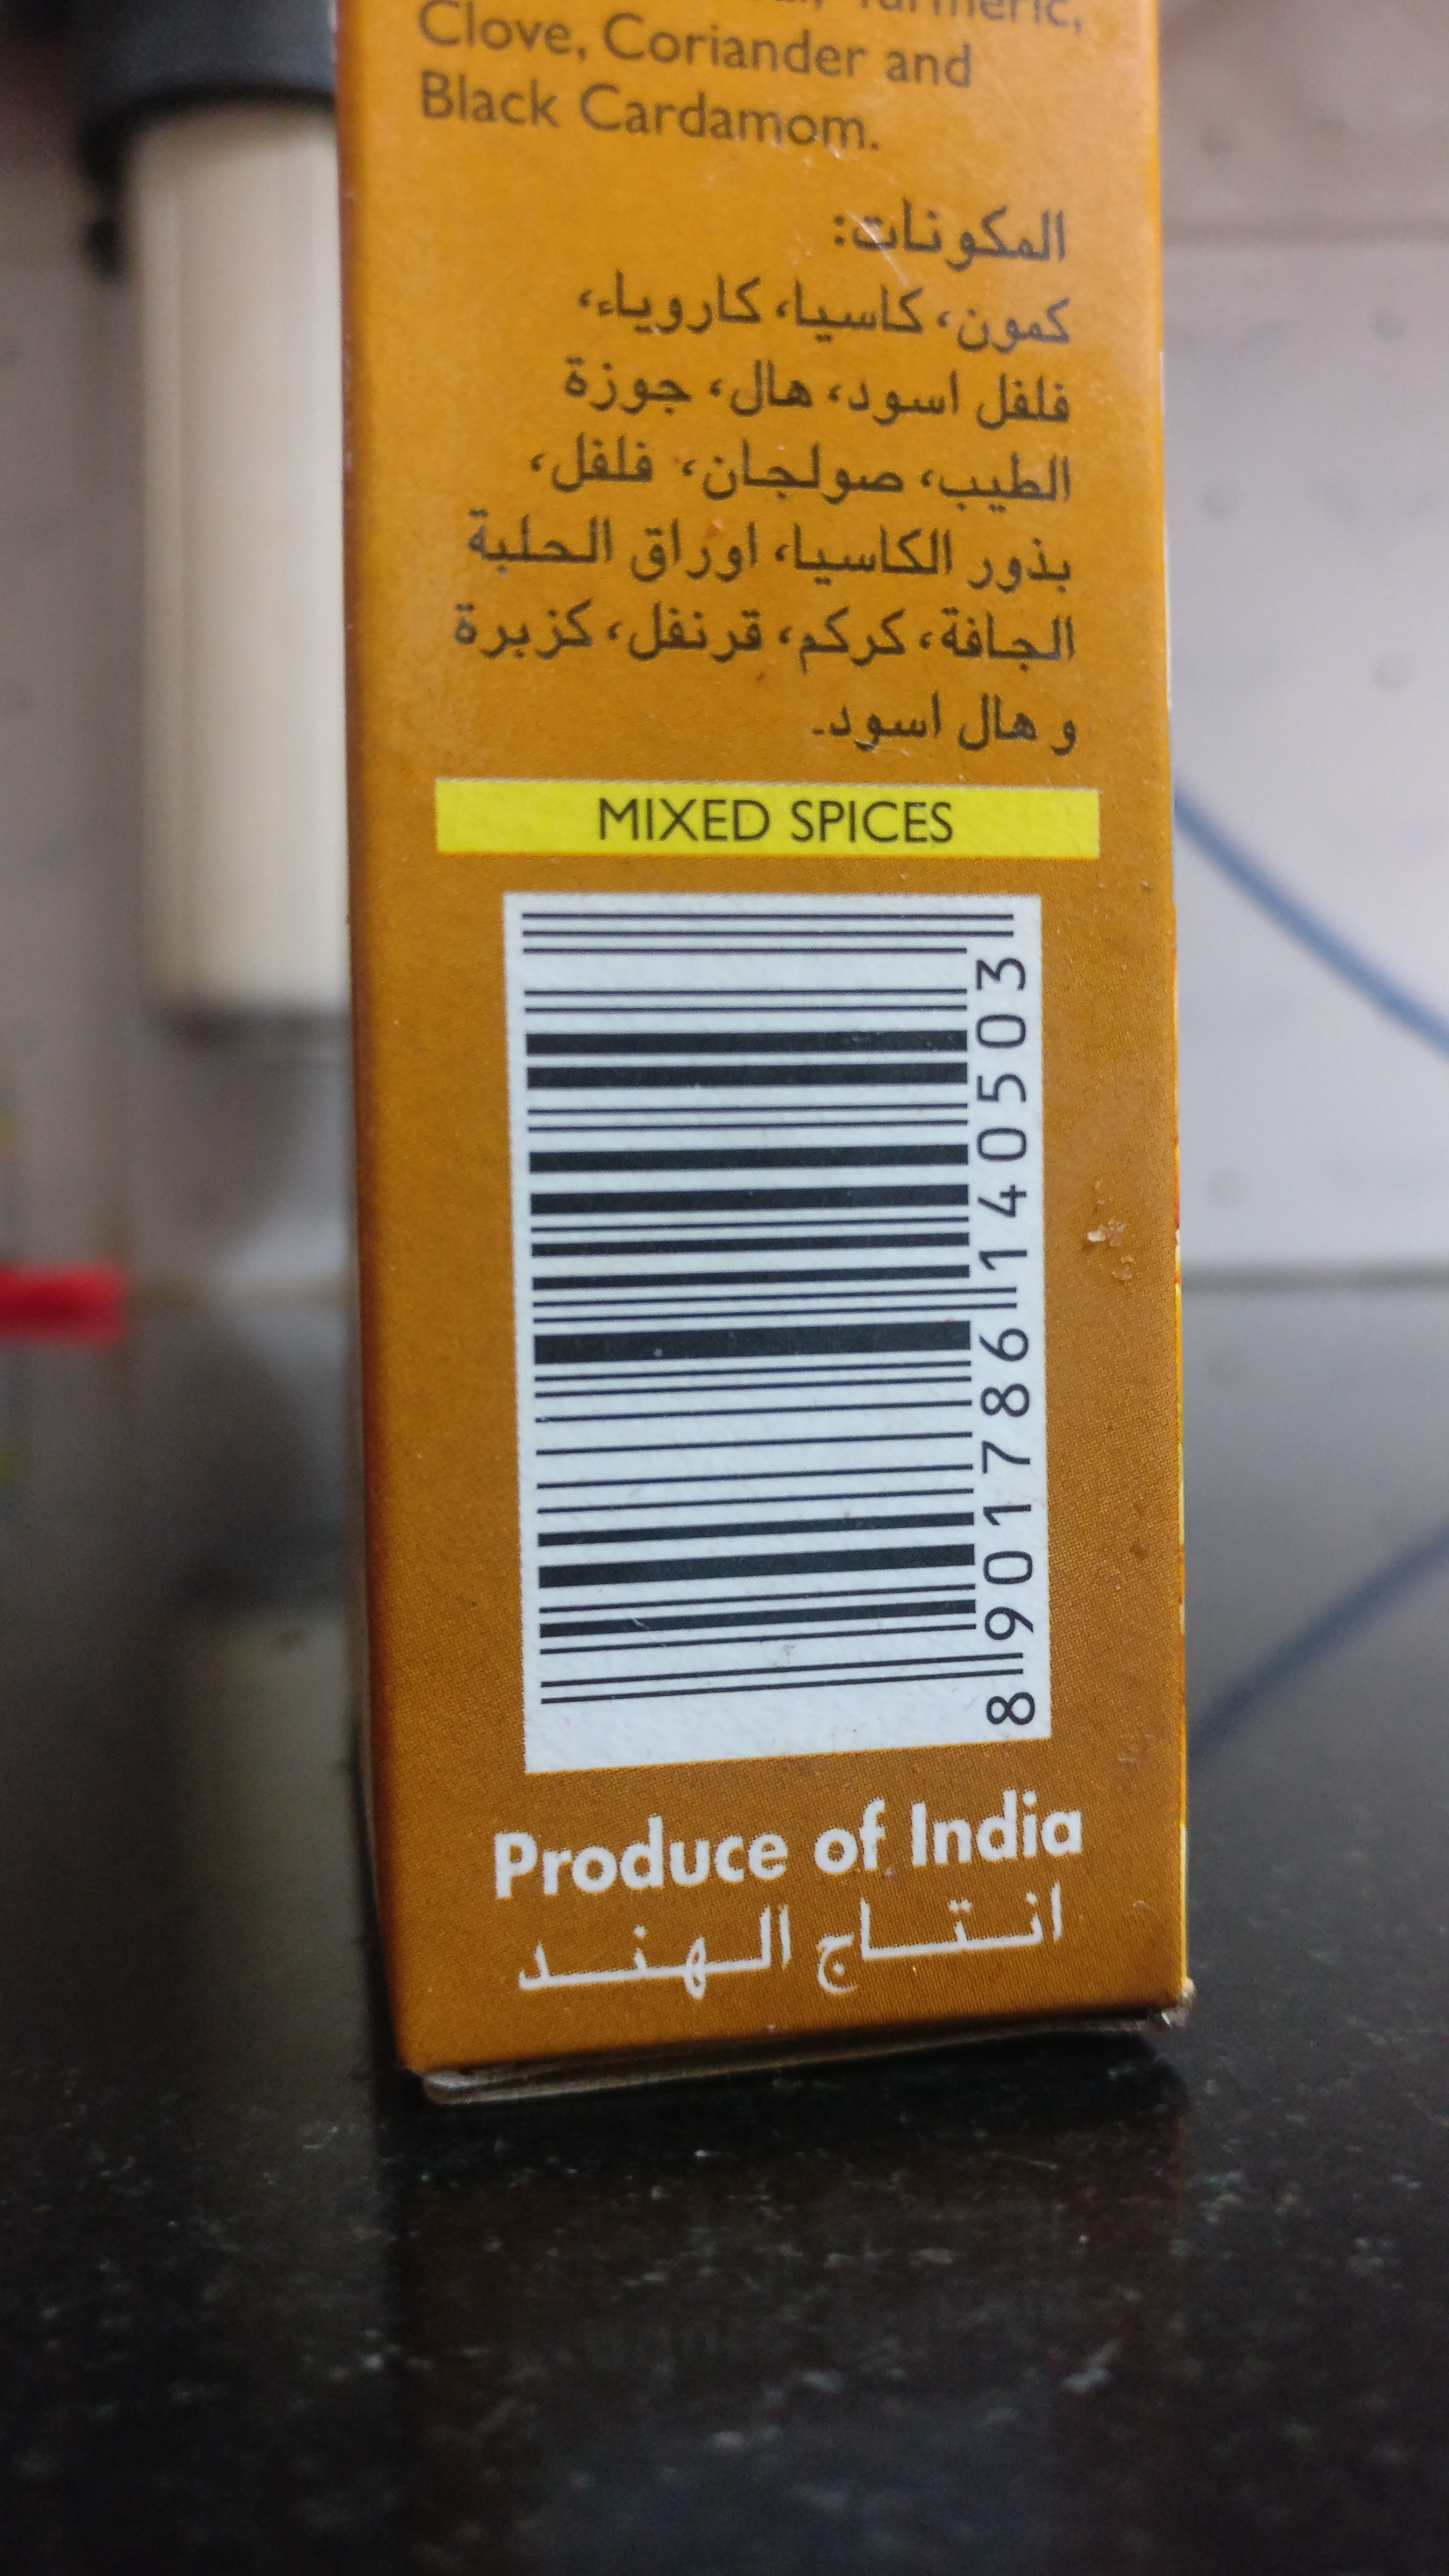barcode: (495, 893, 1056, 1737)
